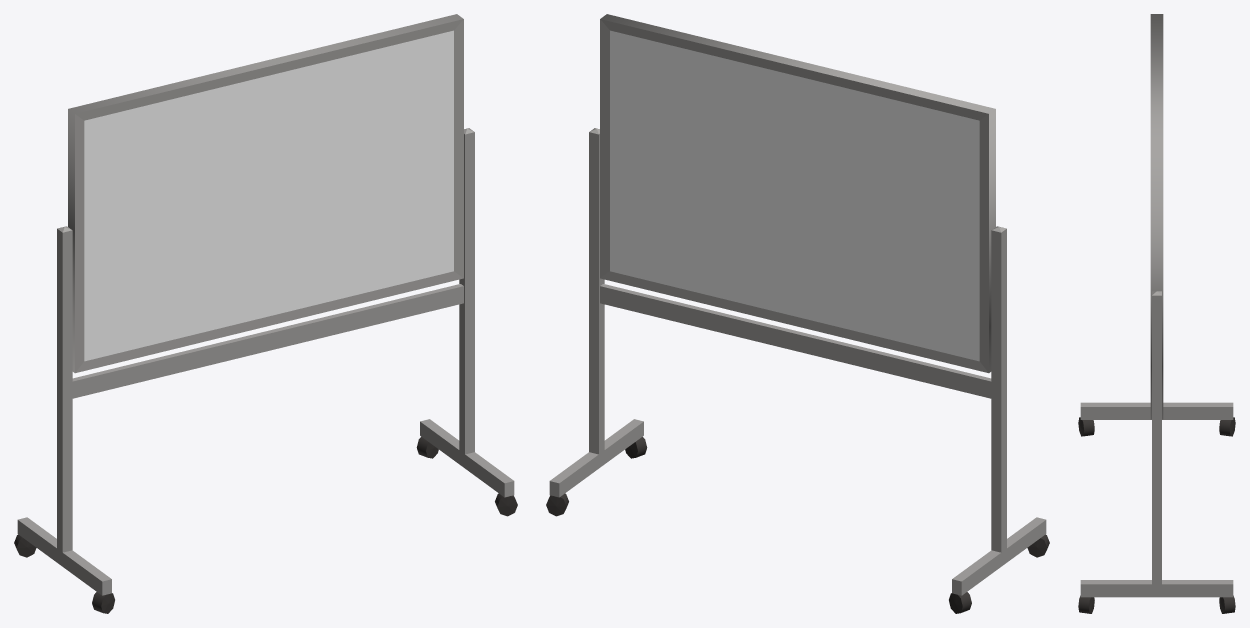
File: whiteboard.FBX
The picture shows the model from 3 angles, left to right: view 1: azimuth 30°, elevation 25°; view 2: azimuth 150°, elevation 25°; view 3: azimuth 270°, elevation 25°; orthographic projection. The views are drawn at different scales.
Visible parts, largest first — view 1: whiteboard; view 2: whiteboard; view 3: whiteboard.
Boxes of the visible parts, x1,y1,x2,y2 form: whiteboard: (14, 14, 517, 613); whiteboard: (546, 14, 1049, 613); whiteboard: (1078, 14, 1235, 613).
Bounding box in the file's own units: 249 × 265 × 88.88.
Materials: 1 (1 with a texture image).
